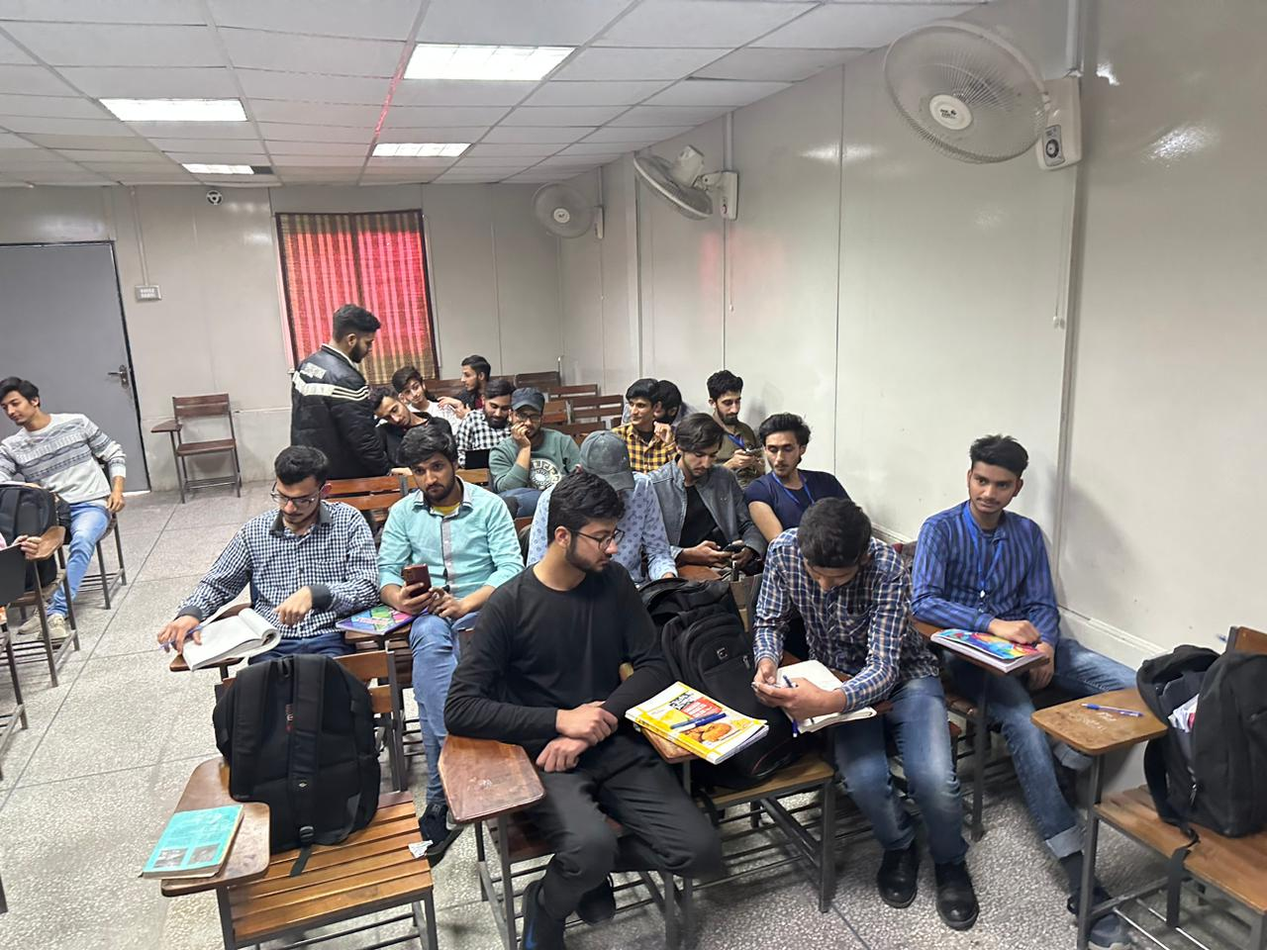non-cheating: (796, 496, 873, 592), (964, 434, 1030, 516), (270, 445, 334, 525), (401, 424, 459, 503), (760, 412, 814, 479), (673, 412, 723, 477), (394, 561, 434, 618), (0, 376, 41, 427), (482, 378, 514, 428), (392, 366, 427, 405)
phone: (750, 658, 818, 710), (692, 538, 754, 570), (726, 446, 765, 470)
